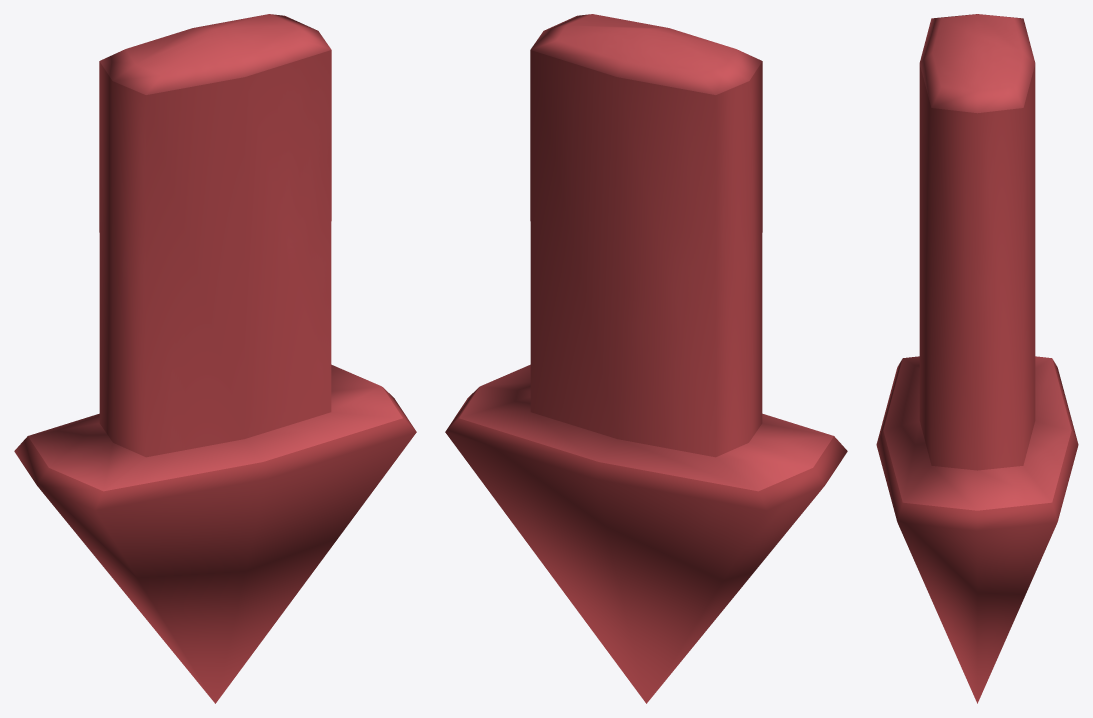
The model's file is FLECHA.fbx.
The picture shows the model from 3 angles, left to right: view 1: azimuth 30°, elevation 25°; view 2: azimuth 150°, elevation 25°; view 3: azimuth 270°, elevation 25°; orthographic projection.
Visible parts, largest first — view 1: Cube; view 2: Cube; view 3: Cube.
Part boxes in pixels (x1=…): Cube: x1=14, y1=14, x2=416, y2=703; Cube: x1=445, y1=14, x2=847, y2=703; Cube: x1=876, y1=14, x2=1078, y2=703.
Bounding box in the file's own units: 48.76 × 87.92 × 24.15.
